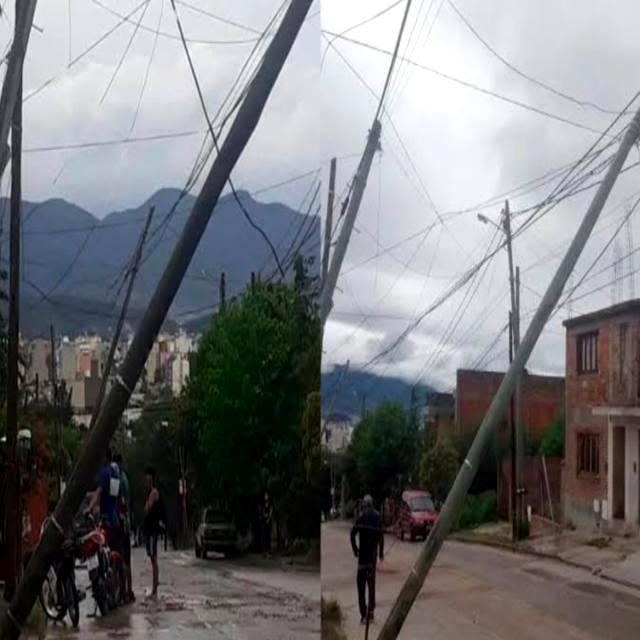Broken Pole: (1, 3, 312, 638), (376, 105, 640, 640), (320, 119, 381, 325)
